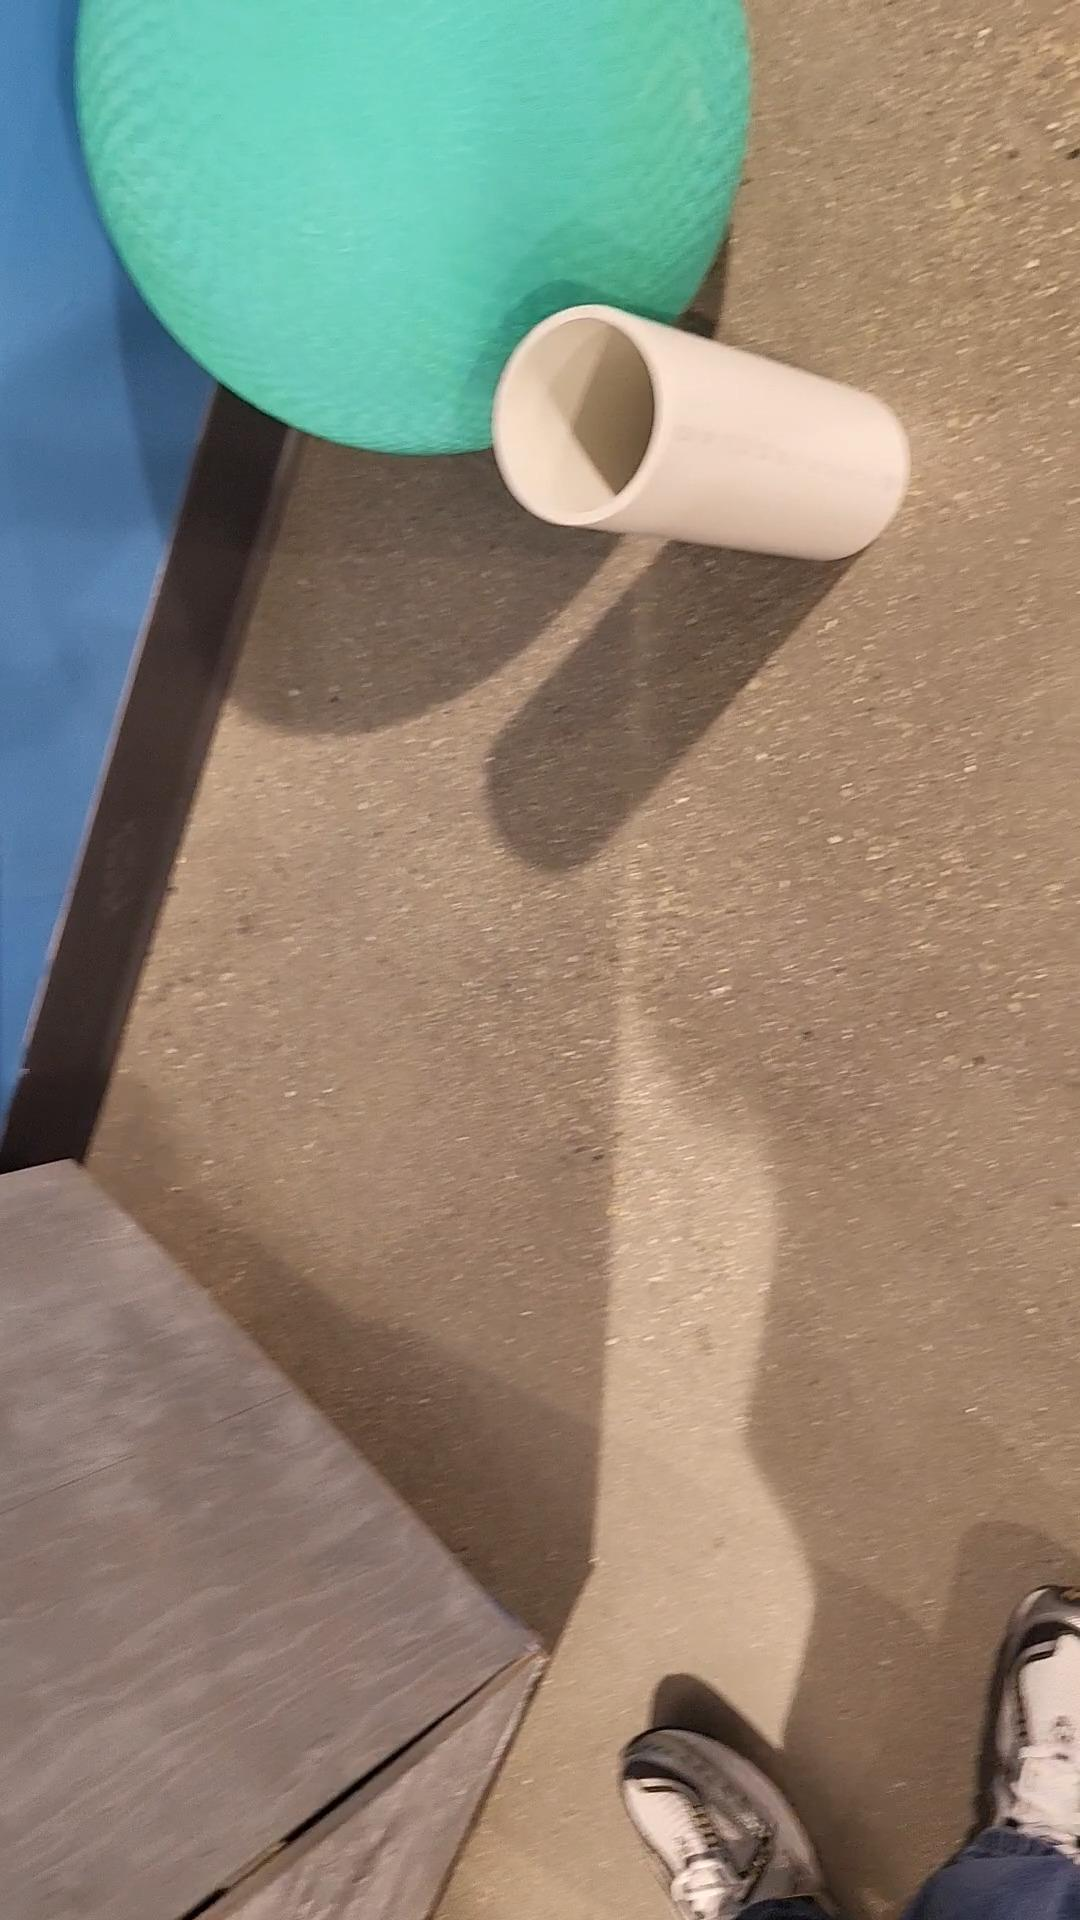algae: (78, 0, 756, 452)
coral: (495, 302, 915, 567)
